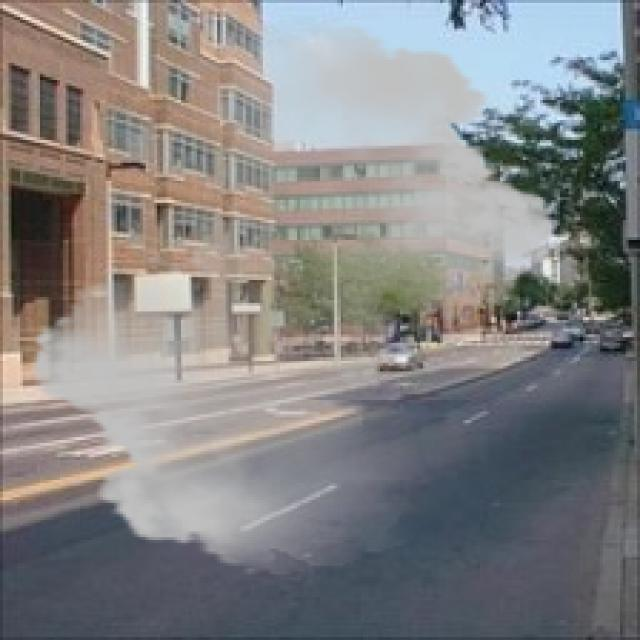smoke: (14, 17, 572, 574)
